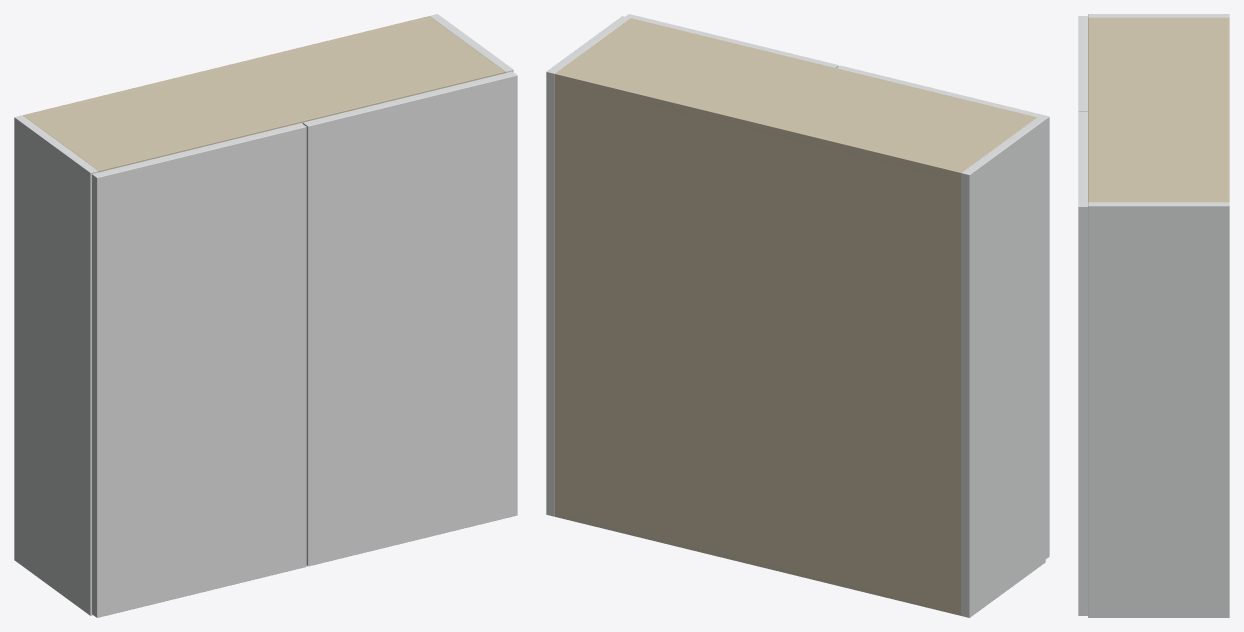
The model's file is oppein-ply-pgw-w3636.glb.
The picture shows the model from 3 angles, left to right: view 1: azimuth 30°, elevation 25°; view 2: azimuth 150°, elevation 25°; view 3: azimuth 270°, elevation 25°; orthographic projection. The views are drawn at different scales.
Parts seen in each view (by area): view 1: Door, Door.001, Cabinet side, Cabinet top, Cabinet back, Cabinet side.001; view 2: Cabinet back, Cabinet side, Cabinet top, Cabinet side.001, Door, Cabinet bottom, Door.001; view 3: Cabinet side.001, Cabinet top, Door.001, Cabinet back, Door, Cabinet side.
Boxes of the visible parts, left/top/right/bottom form: Door: left=92, top=123, right=306, bottom=617; Door.001: left=303, top=71, right=517, bottom=566; Cabinet side: left=14, top=115, right=98, bottom=615; Cabinet top: left=23, top=18, right=505, bottom=172; Cabinet back: left=23, top=16, right=431, bottom=117; Cabinet side.001: left=430, top=14, right=513, bottom=72; Cabinet back: left=554, top=71, right=963, bottom=615; Cabinet side: left=961, top=117, right=1045, bottom=617; Cabinet top: left=554, top=18, right=1036, bottom=180; Cabinet side.001: left=546, top=16, right=630, bottom=516; Door: left=836, top=65, right=1049, bottom=558; Cabinet bottom: left=554, top=508, right=960, bottom=615; Door.001: left=625, top=14, right=838, bottom=67; Cabinet side.001: left=1088, top=202, right=1229, bottom=617; Cabinet top: left=1088, top=17, right=1229, bottom=202; Door.001: left=1078, top=111, right=1087, bottom=615; Cabinet back: left=1224, top=17, right=1229, bottom=202; Door: left=1078, top=16, right=1087, bottom=111; Cabinet side: left=1088, top=14, right=1229, bottom=17.
Size of the model in its own units: 0.9144 by 0.9144 by 0.3048.
